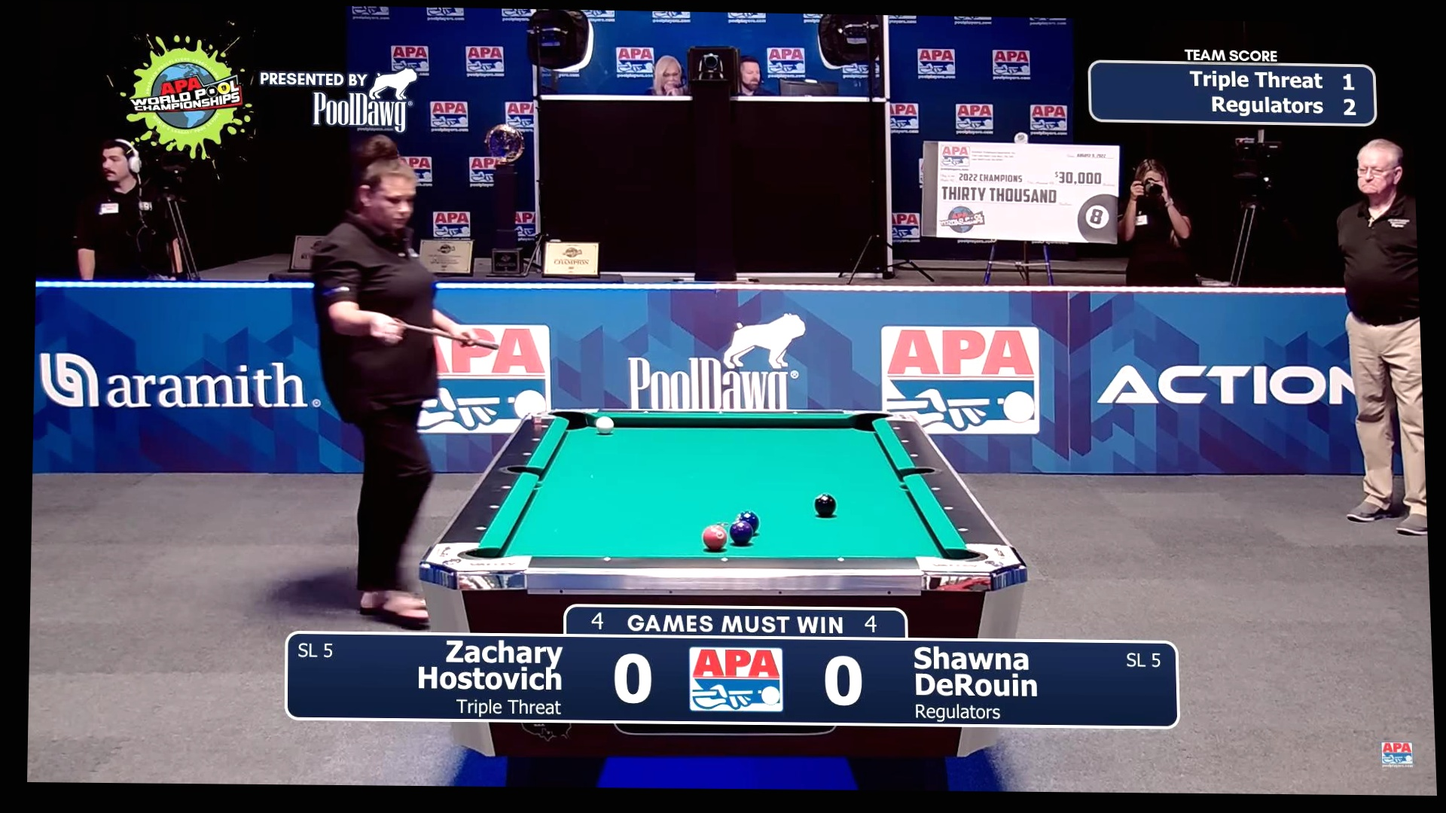Black: (476, 524, 487, 532), (530, 435, 541, 443), (891, 424, 902, 432), (908, 451, 919, 459), (490, 502, 500, 510), (502, 483, 512, 491), (641, 408, 651, 416), (539, 423, 550, 430), (715, 409, 726, 416), (899, 438, 910, 445), (930, 485, 941, 492), (835, 556, 846, 563), (718, 556, 729, 563), (521, 450, 531, 457), (790, 409, 800, 416), (943, 505, 953, 512), (958, 527, 968, 534), (602, 556, 612, 563)
Cue: (702, 525, 727, 551), (729, 520, 754, 545), (737, 510, 760, 535)
Solid: (813, 493, 836, 517)
Stripe: (596, 416, 615, 434)
